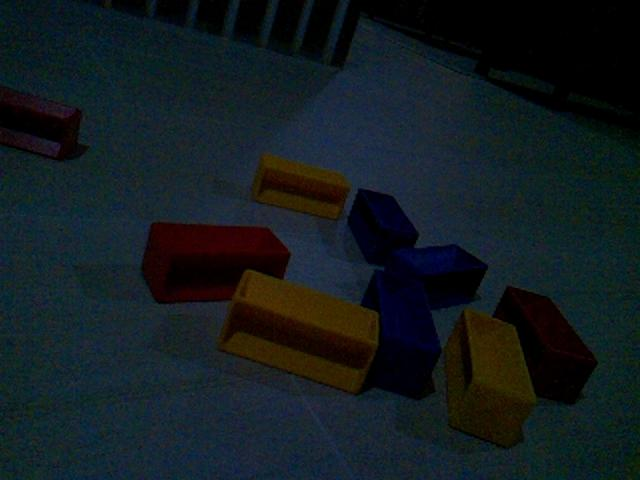blue: (359, 268, 443, 400), (387, 242, 489, 310), (347, 186, 420, 266)
red: (492, 282, 599, 405), (140, 219, 292, 305), (1, 83, 84, 162)
yellow: (217, 268, 381, 396), (442, 306, 538, 448), (251, 151, 352, 222)
